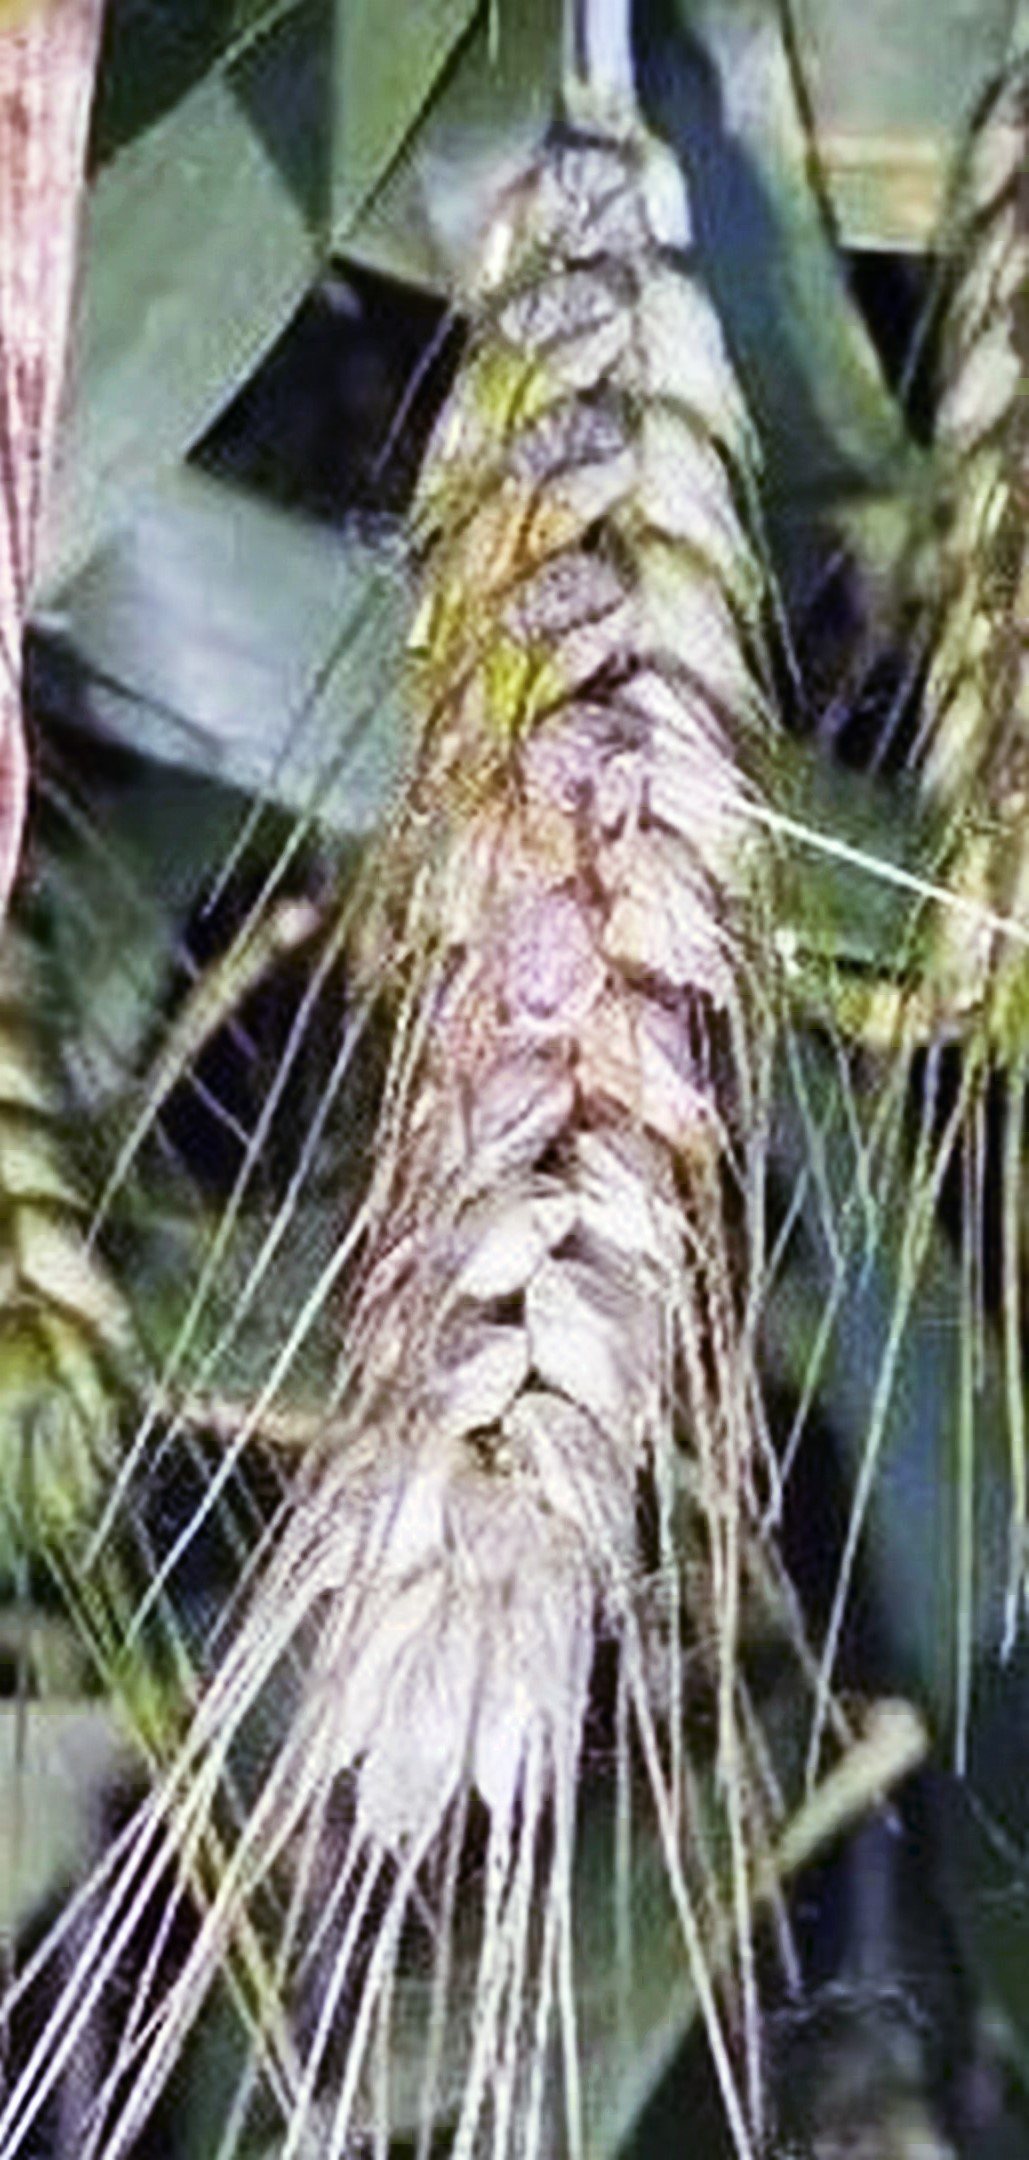Wheat scab: (343, 74, 749, 1752)
